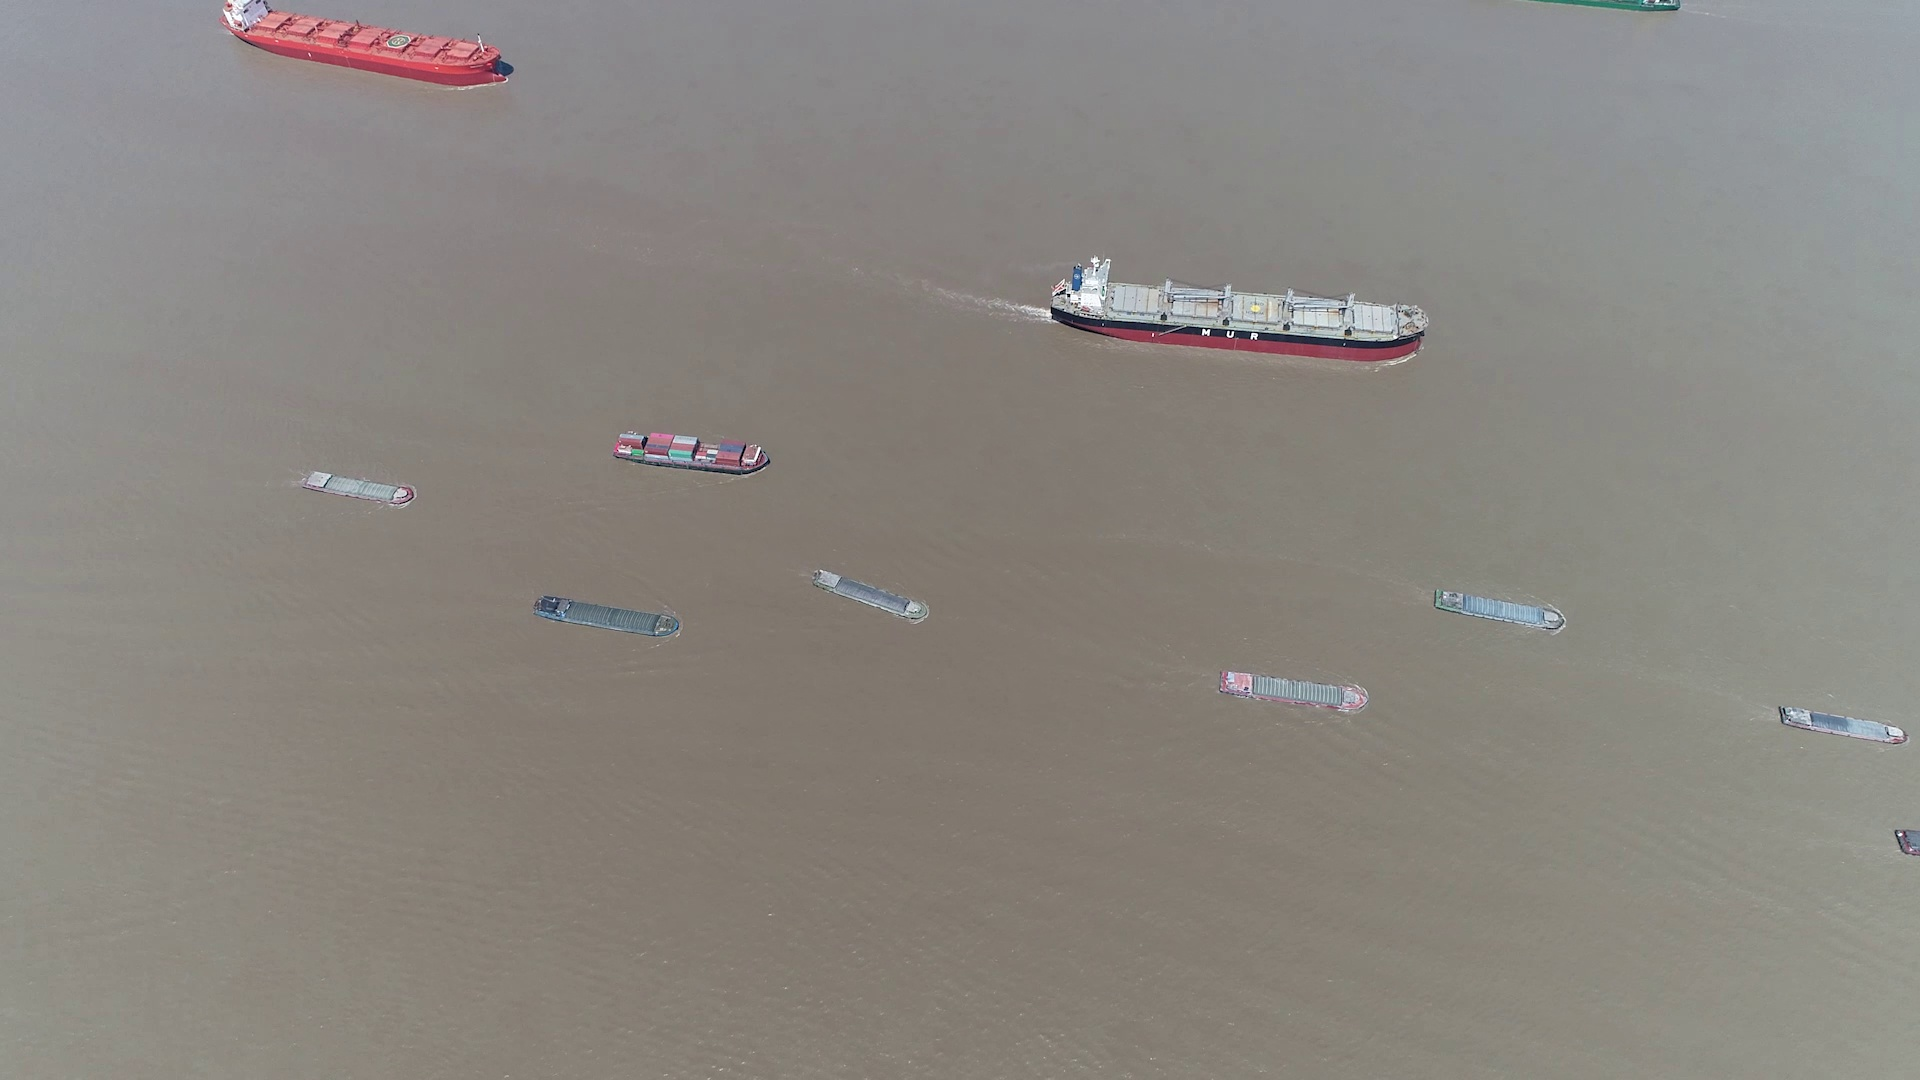ship: (1056, 258, 1425, 357), (220, 0, 516, 84), (611, 429, 770, 475), (533, 595, 680, 640), (1216, 671, 1370, 713), (814, 570, 932, 624), (1431, 588, 1568, 632), (1778, 704, 1904, 742), (297, 469, 417, 506), (1538, 0, 1680, 12), (1896, 828, 1920, 860)
